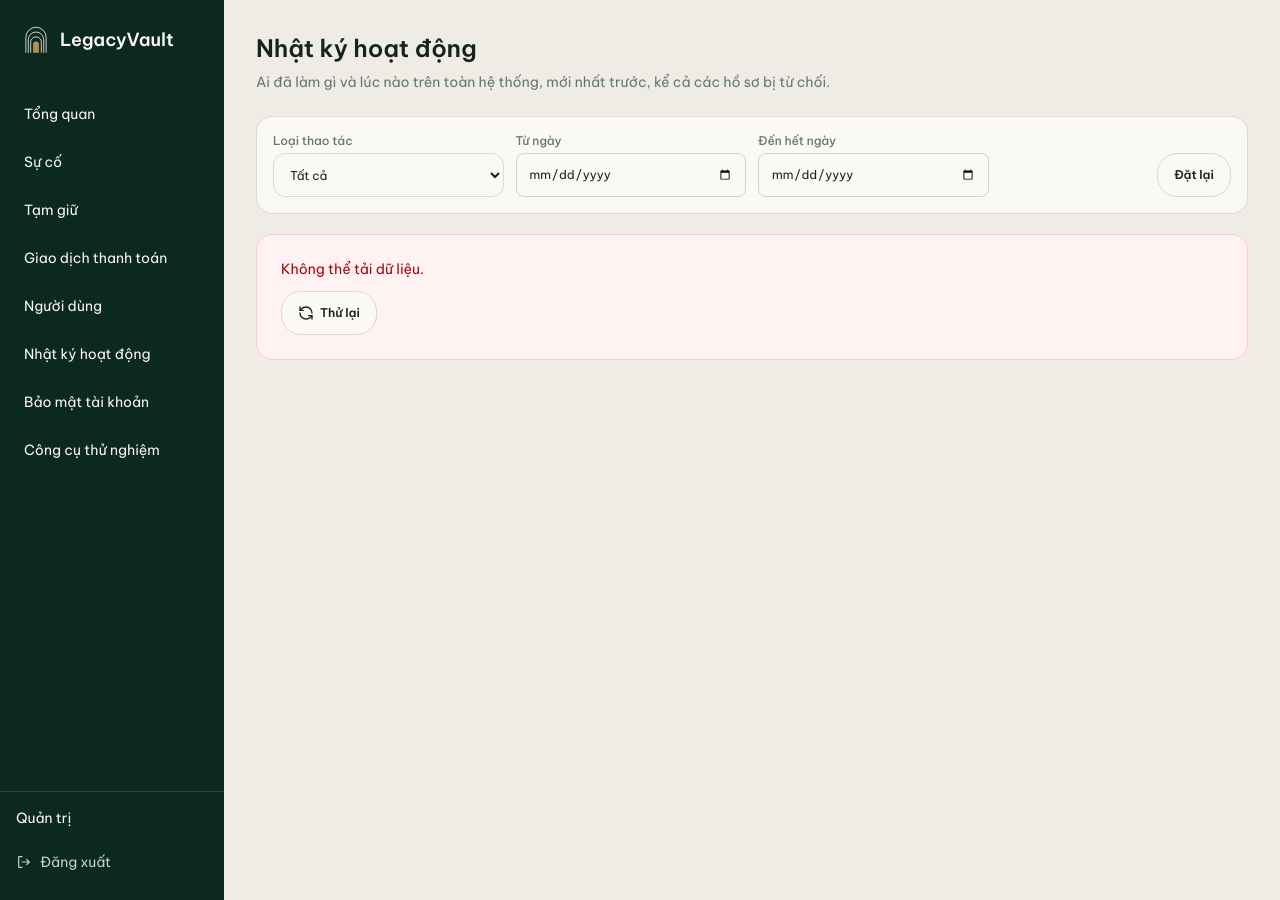
Test: nhật ký hoạt động lỗi mạng có nút thử lại và tải lại được
Check: the message shows "Không thể tải dữ liệu.", box [281,260,424,278]
Click the button "Thử lại": (329, 313) [281,291,377,335]
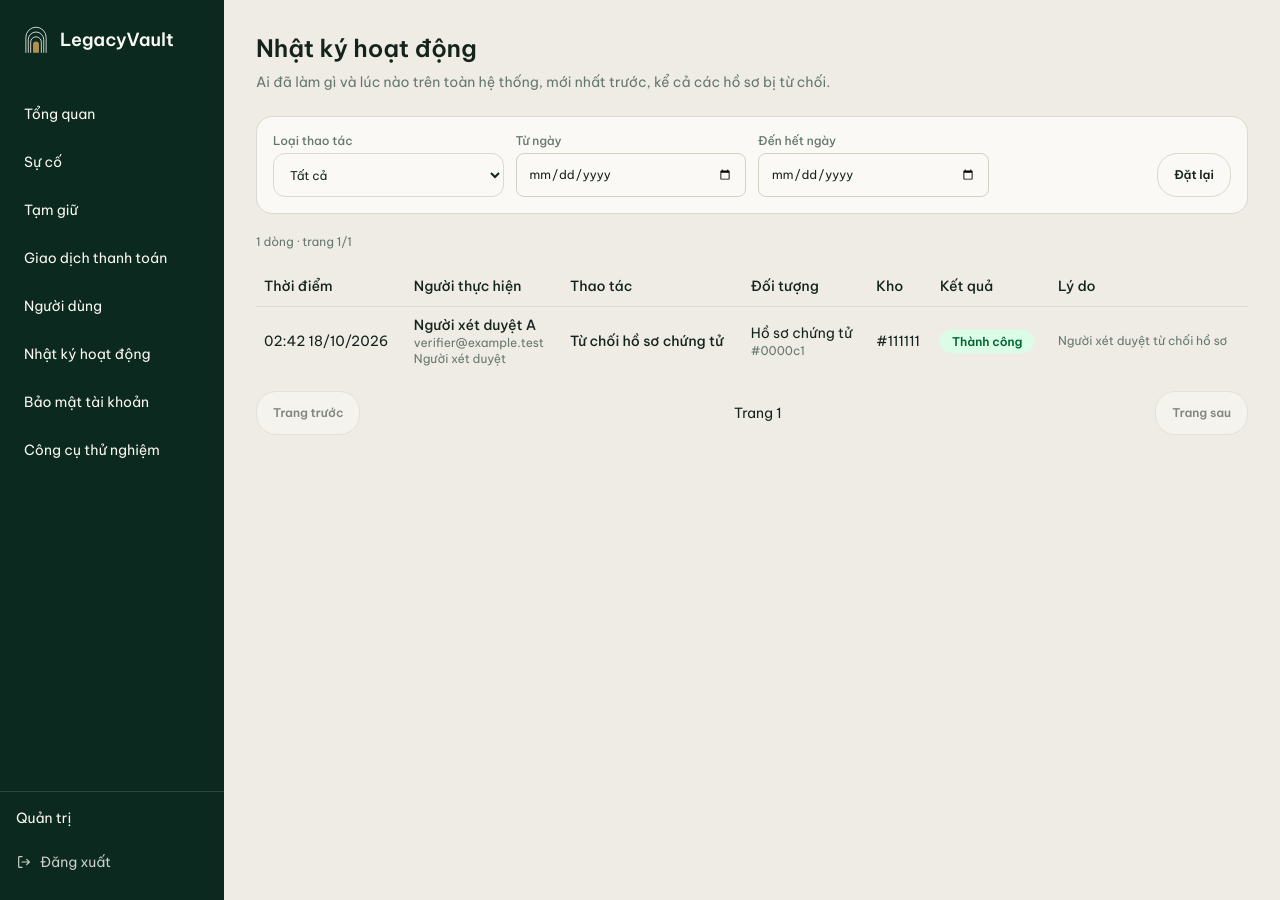
Check: the text "Từ chối hồ sơ chứng tử" is shown, box [562,306,743,374]
